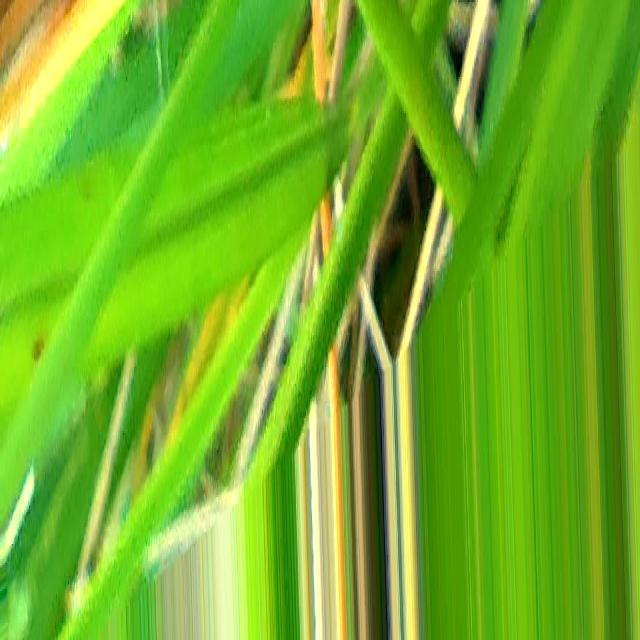NBS: (0, 0, 11, 20)
